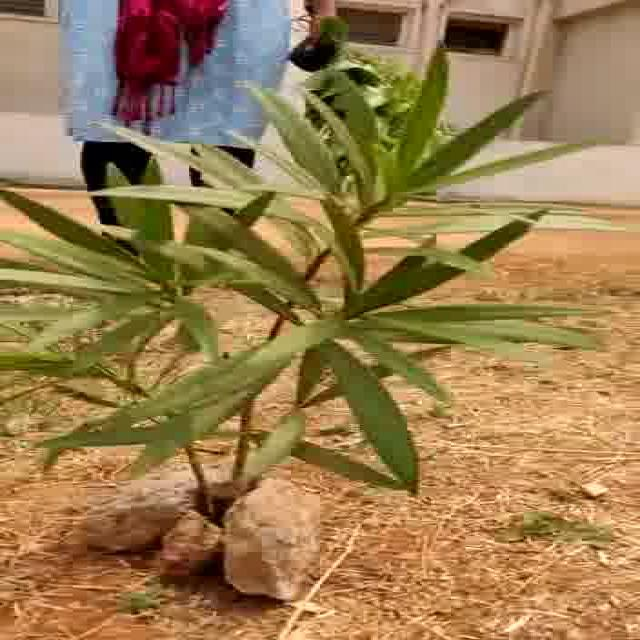Oleander: (0, 101, 524, 482)
